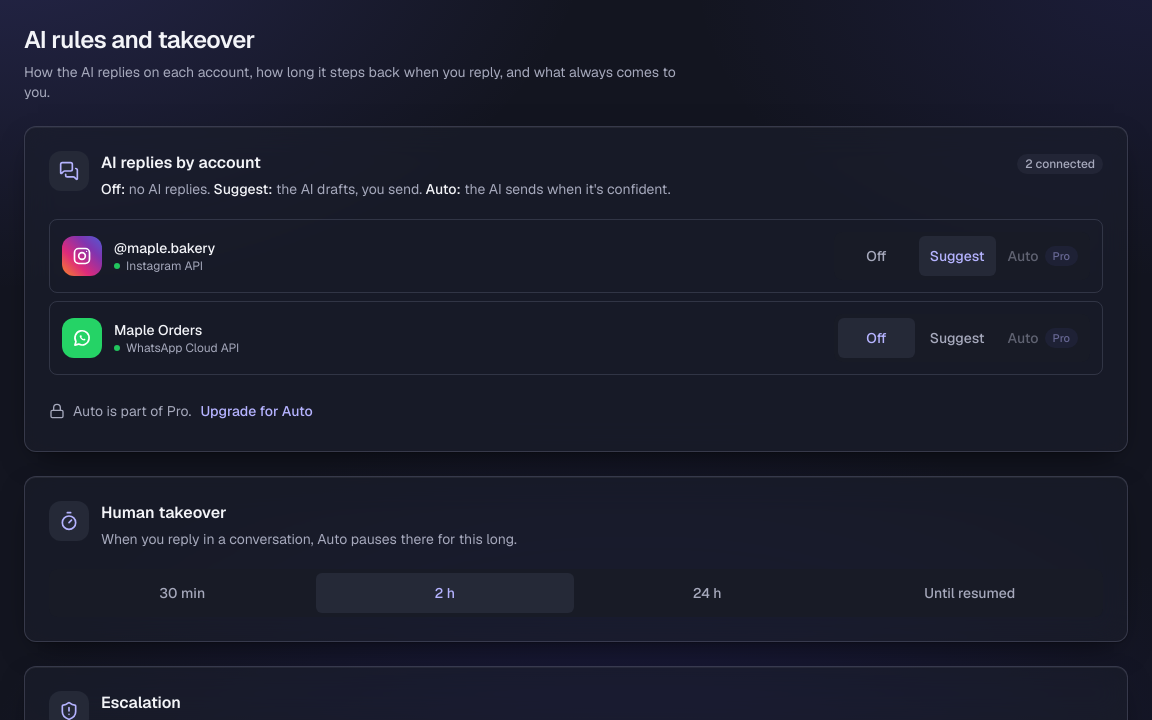
Test case: Settings → AI (UX-SCR-07, T5.5) › on Free, Auto is disabled with a Pro badge on every account, and the hint opens the upgrade dialog
Expected: the radio button labelled "Auto Pro" in the row of "@maple.bakery" is disabled, [1000,236,1086,276]
Expected: the radio button labelled "Auto Pro" in the row of "Maple Orders" is disabled, [1000,318,1086,358]
Click the button "Upgrade for Auto" at (257, 411), box [199,395,314,427]
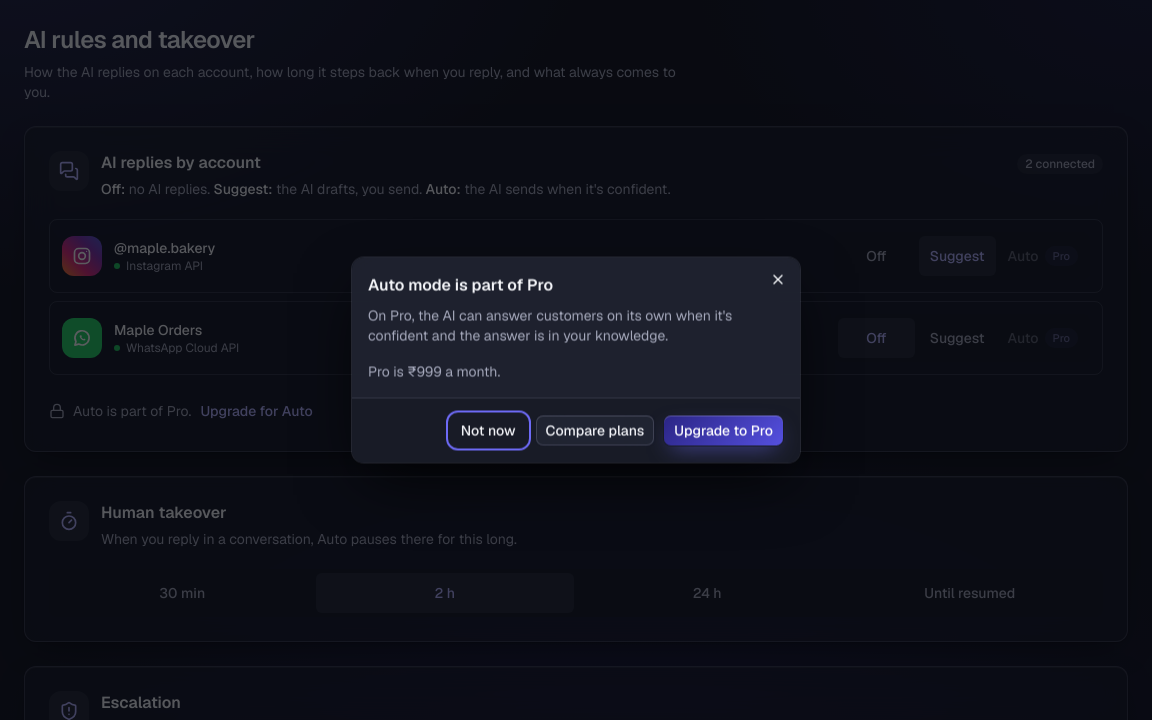
Expected: the dialog "Auto mode is part of Pro" is shown, [352,258,800,462]
